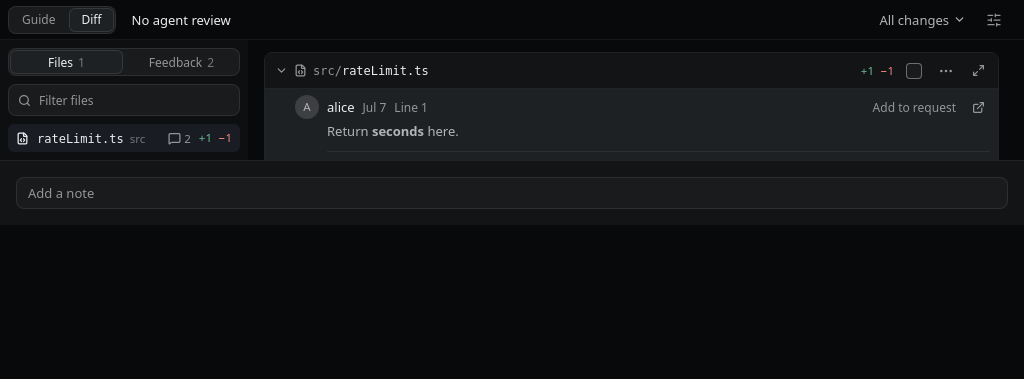
ReviewWorkspace pull request discussions › says which line a thread is about once the code it was written on may have moved, and lists threads by what happens to them
The width and height of the screenshot is (1024, 379).
Expected: the text "Line 1" is shown, [394,98,428,116]
Click the button "Feedback2".
click(182, 62)  # box [125,50,238,74]
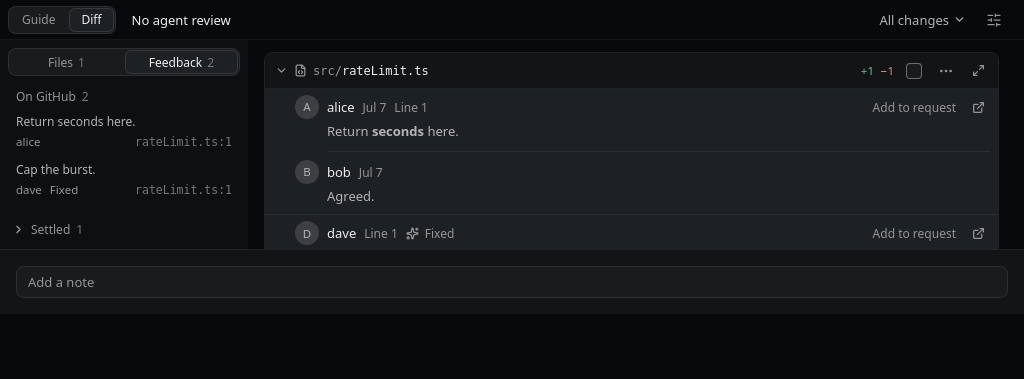
Now the button "Cap the burst. dave Fixed rateLimit.ts:1" is shown, box [8,156,240,204]
# A resolved thread is settled, at the end and folded.
Click the button "Settled 1".
click(124, 229)  # box [8,217,240,241]
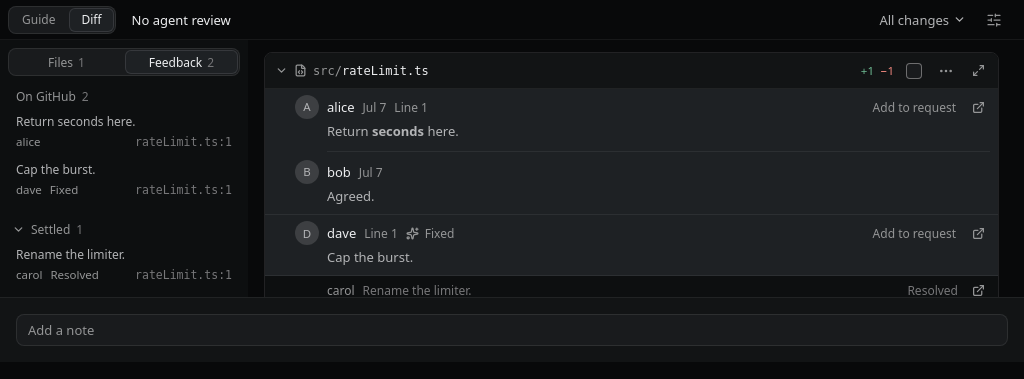
Now the text "Rename the limiter." below "On GitHub" is shown, box [16,246,125,263]
